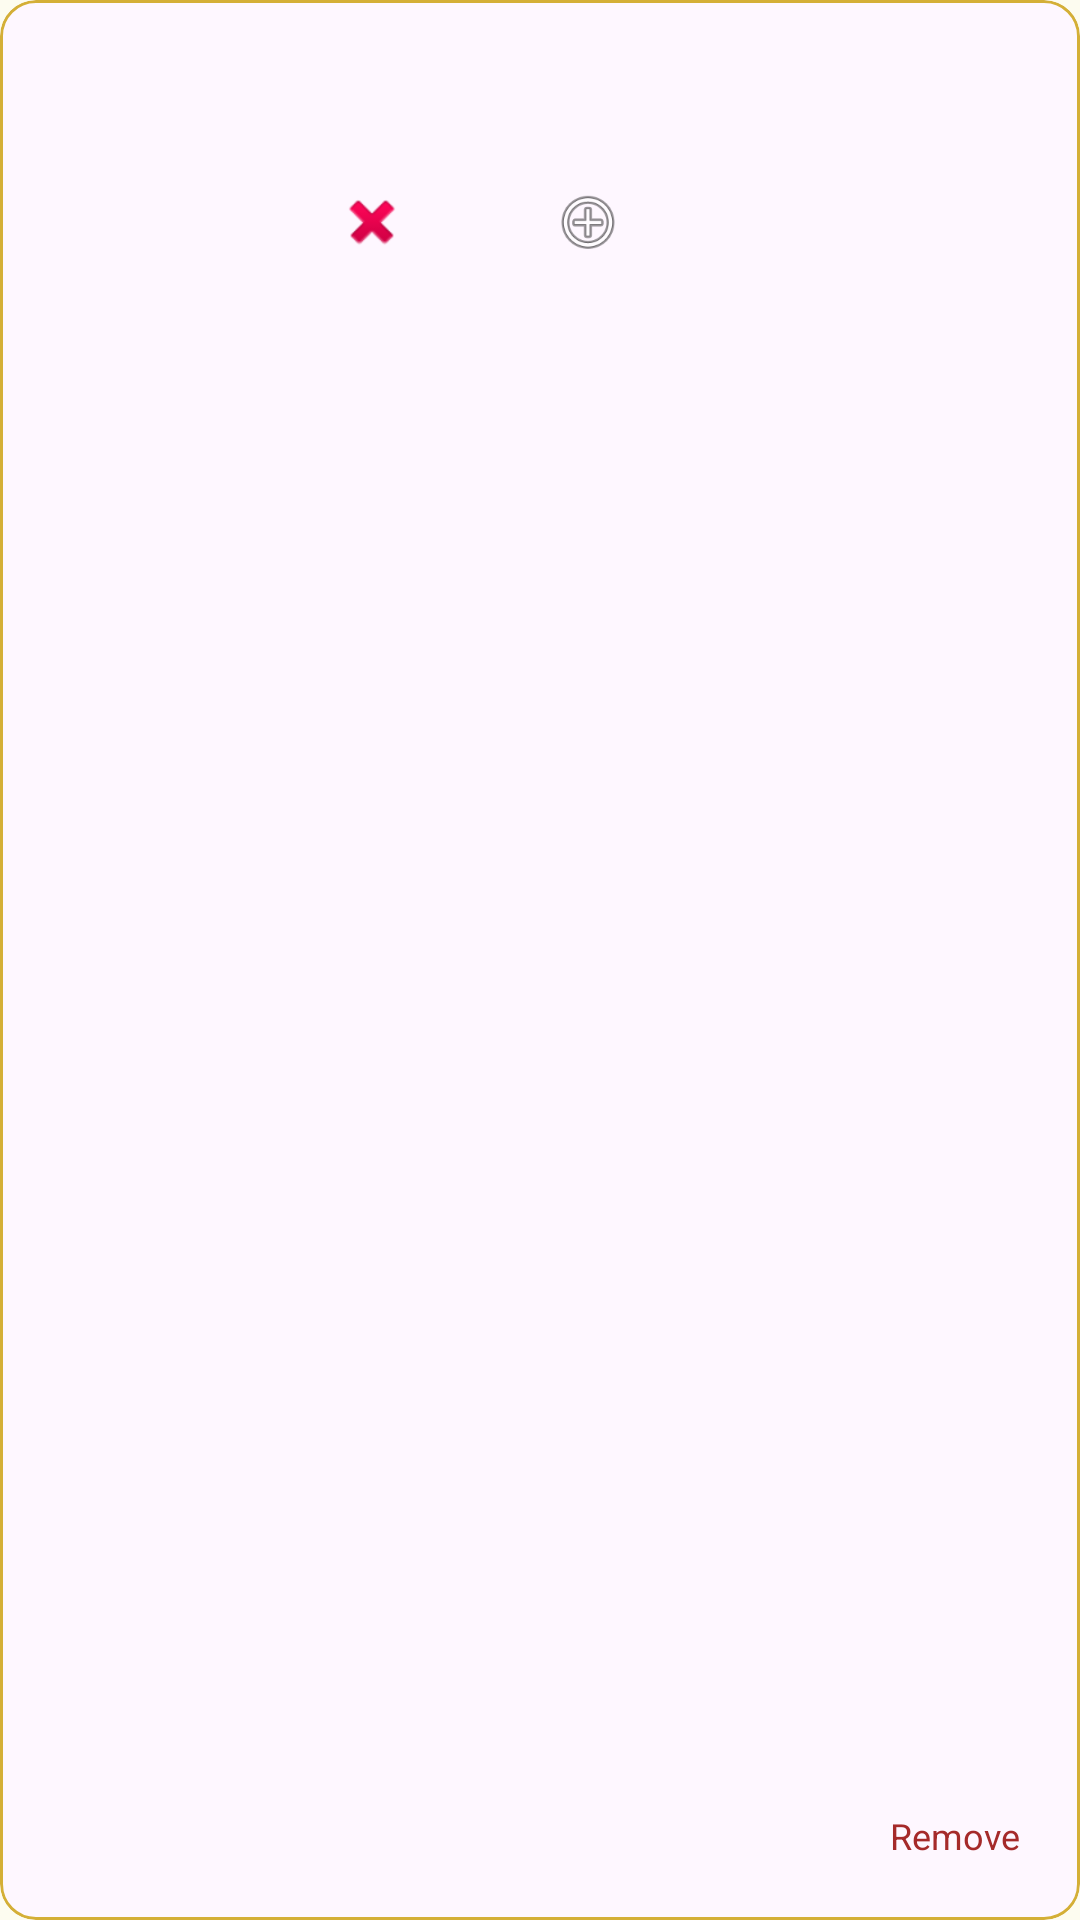

Named icons in this screenshot (1080 x 1920) and their centers, [x,y]:
add: [588,222]
delete: [372,222]
